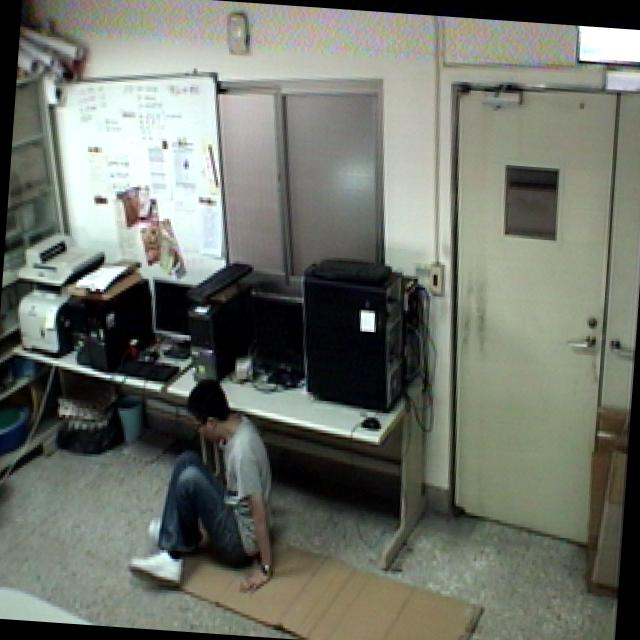sit: (122, 370, 292, 602)
